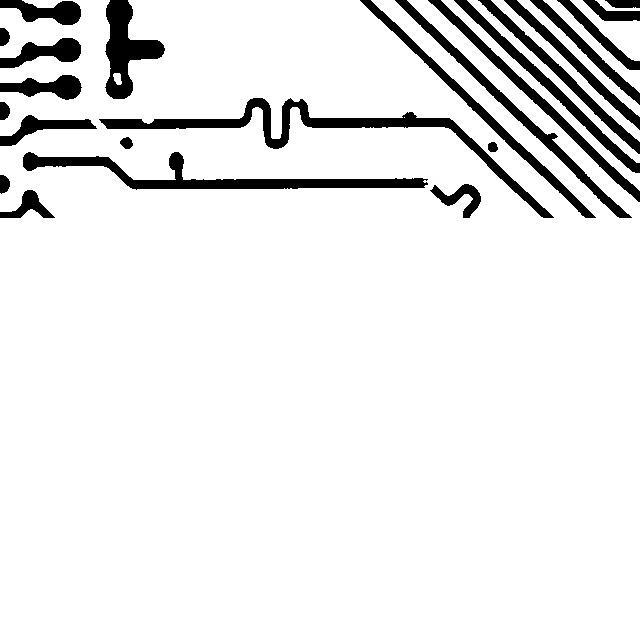copper: (110, 127, 142, 158), (478, 132, 507, 161)
mousebite: (132, 105, 163, 133), (279, 85, 310, 111)
open: (81, 107, 117, 143), (413, 167, 447, 203)
pin-hole: (103, 63, 131, 94)
short: (165, 154, 192, 191)
spur: (535, 123, 567, 152), (392, 102, 426, 129)
